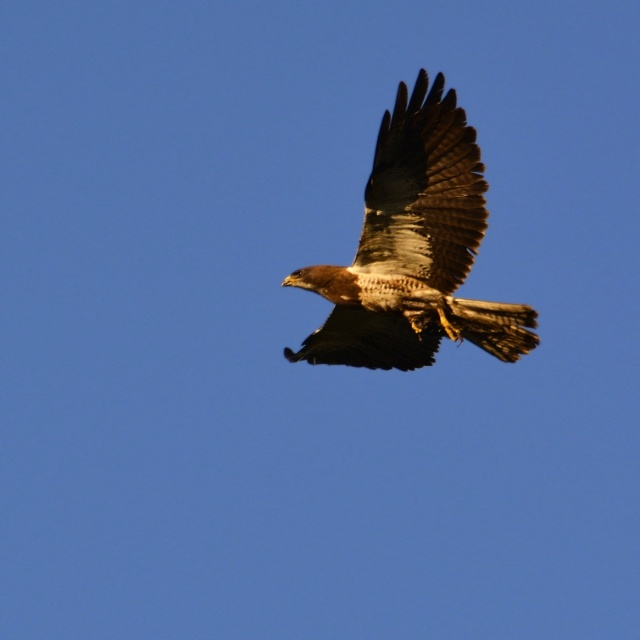Eagle: (275, 65, 546, 377)
